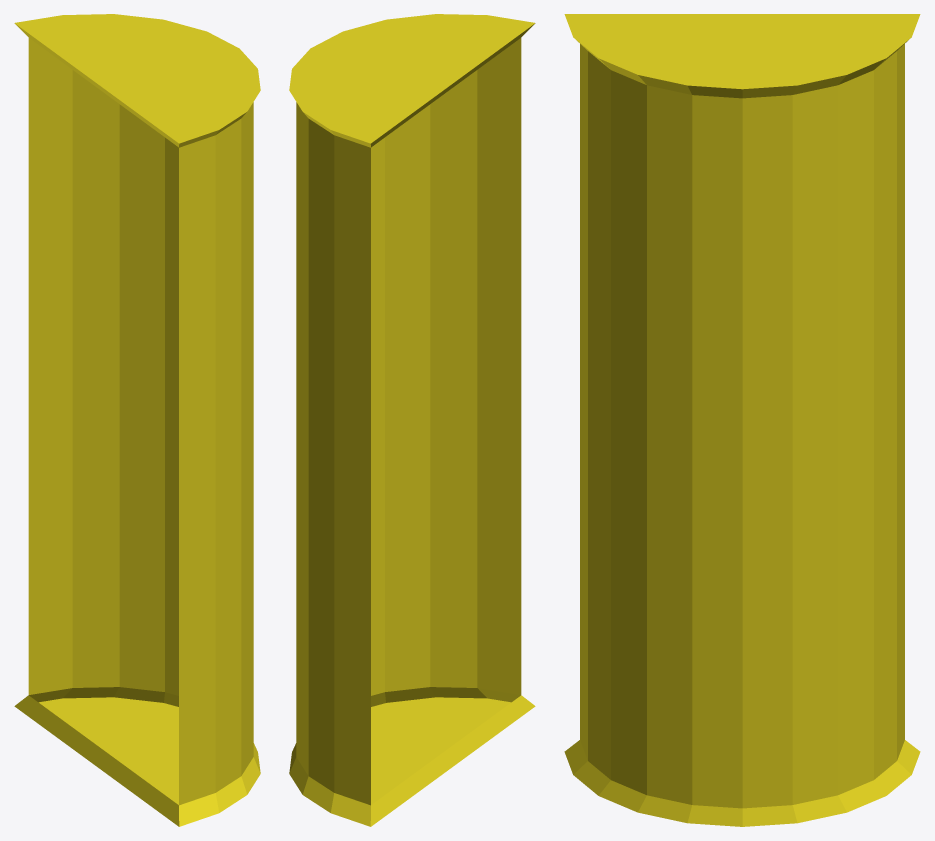
Rendered from pilar.fbx.
3 views of the same model, side by side, from view 1: azimuth 30°, elevation 25°; view 2: azimuth 150°, elevation 25°; view 3: azimuth 270°, elevation 25° (orthographic). The views are drawn at different scales.
Parts seen in each view (by area): view 1: pilar; view 2: pilar; view 3: pilar.
Part boxes in pixels (box(x1,y1,x2,y2)): pilar: box(14, 14, 260, 826); pilar: box(289, 14, 535, 826); pilar: box(564, 14, 920, 826).
Bounding box in the file's own units: 110 × 501 × 219.
